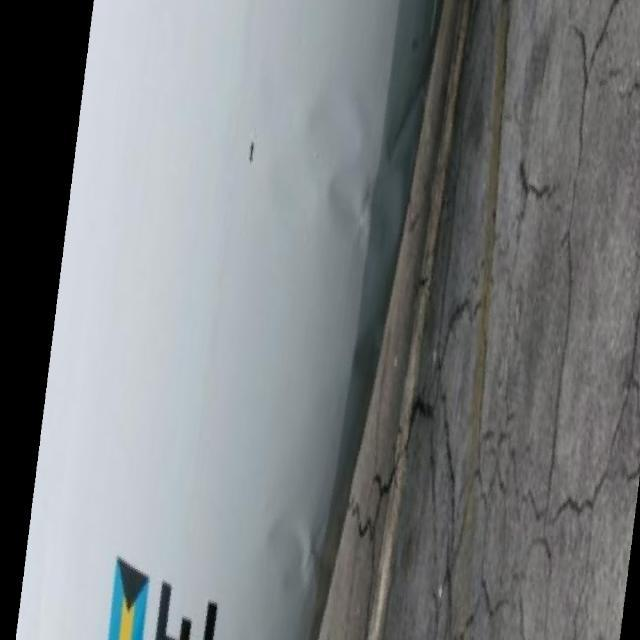dent: (307, 81, 412, 254), (268, 494, 340, 613)
